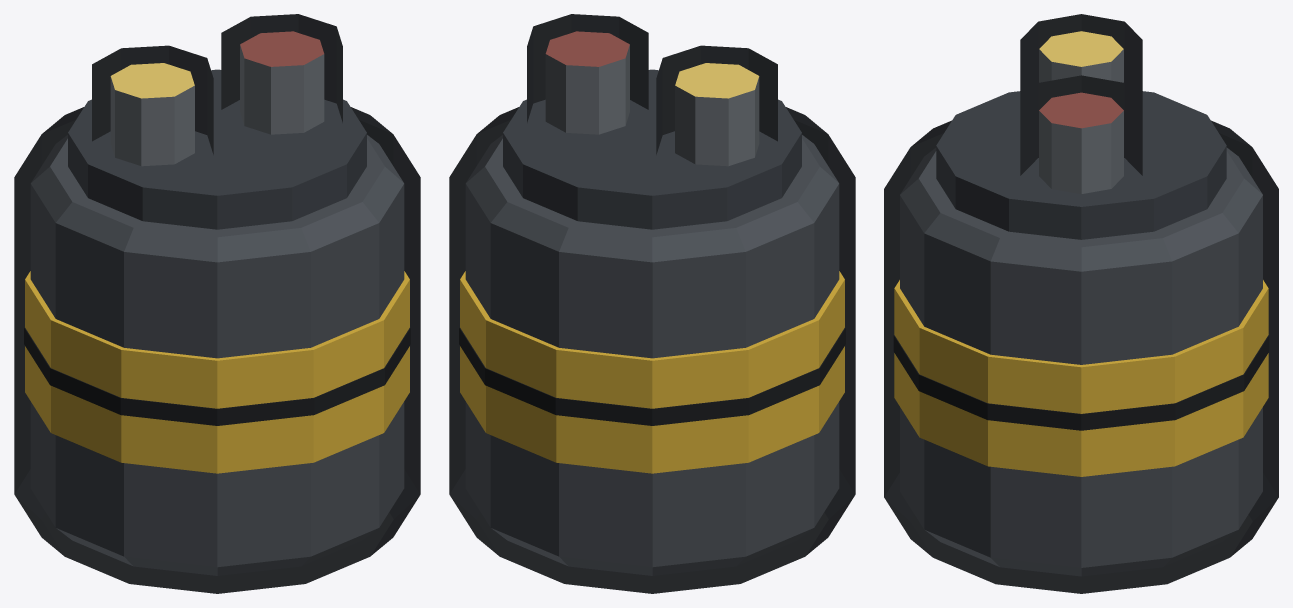
File: SM_Mat_Battery.glb
3 views of the same model, side by side, from view 1: azimuth 30°, elevation 25°; view 2: azimuth 150°, elevation 25°; view 3: azimuth 270°, elevation 25° (orthographic). The views are drawn at different scales.
Parts seen in each view (by area): view 1: SM_Mat_Battery, SM_Mat_Battery_Outline; view 2: SM_Mat_Battery, SM_Mat_Battery_Outline; view 3: SM_Mat_Battery, SM_Mat_Battery_Outline.
Boxes of the visible parts, <box> form: SM_Mat_Battery: <box>24,31,410,575</box>; SM_Mat_Battery_Outline: <box>14,14,420,593</box>; SM_Mat_Battery: <box>459,31,845,575</box>; SM_Mat_Battery_Outline: <box>449,14,855,593</box>; SM_Mat_Battery: <box>893,31,1269,576</box>; SM_Mat_Battery_Outline: <box>884,14,1278,593</box>.
Size of the model in its own units: 0.3261 by 0.411 by 0.3261.
Materials: 2 (1 with a texture image).
